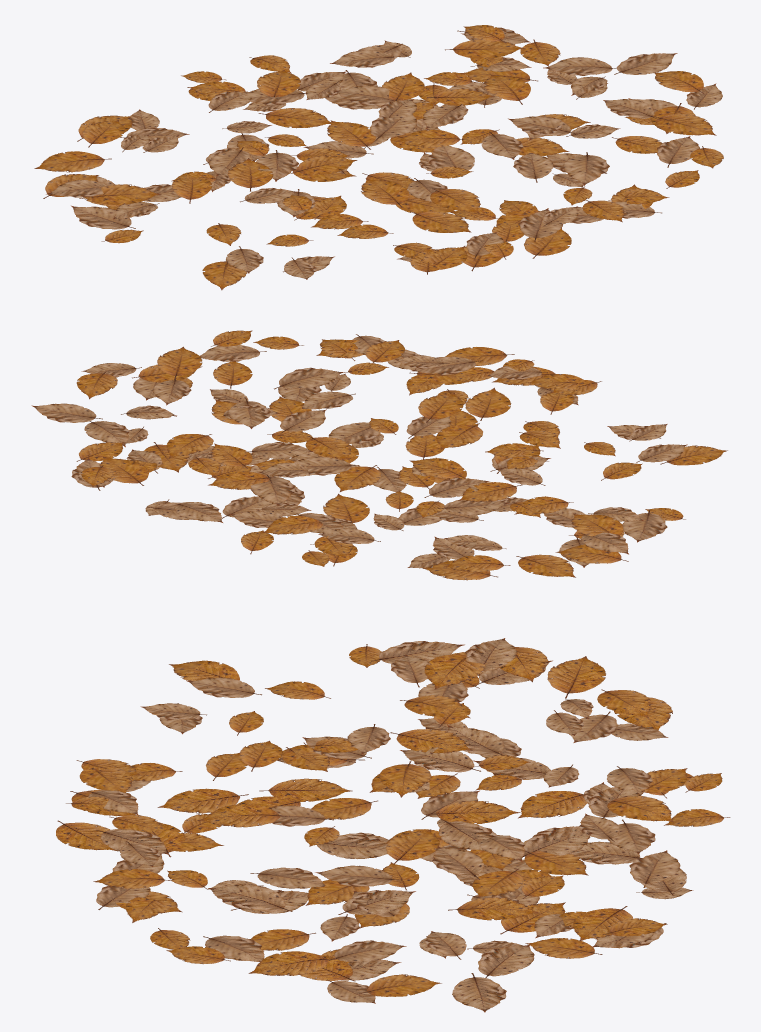
Rendered from Beech_LeafLitter_Patch_01_LOD0.fbx.
3 renders of one model, top to bottom at view 1: azimuth 30°, elevation 25°; view 2: azimuth 150°, elevation 25°; view 3: azimuth 270°, elevation 25°, orthographic. The views are drawn at different scales.
Parts seen in each view (by area): view 1: Beech_LeafLitter_Patch_01_LOD0_Mesh; view 2: Beech_LeafLitter_Patch_01_LOD0_Mesh; view 3: Beech_LeafLitter_Patch_01_LOD0_Mesh.
Boxes of the visible parts, bbox=[...] form: Beech_LeafLitter_Patch_01_LOD0_Mesh: bbox=[34, 25, 723, 290]; Beech_LeafLitter_Patch_01_LOD0_Mesh: bbox=[31, 330, 727, 580]; Beech_LeafLitter_Patch_01_LOD0_Mesh: bbox=[56, 638, 730, 1012].
Size of the model in its own units: 148 by 1.99 by 116.
Materials: 1 (1 with a texture image).
